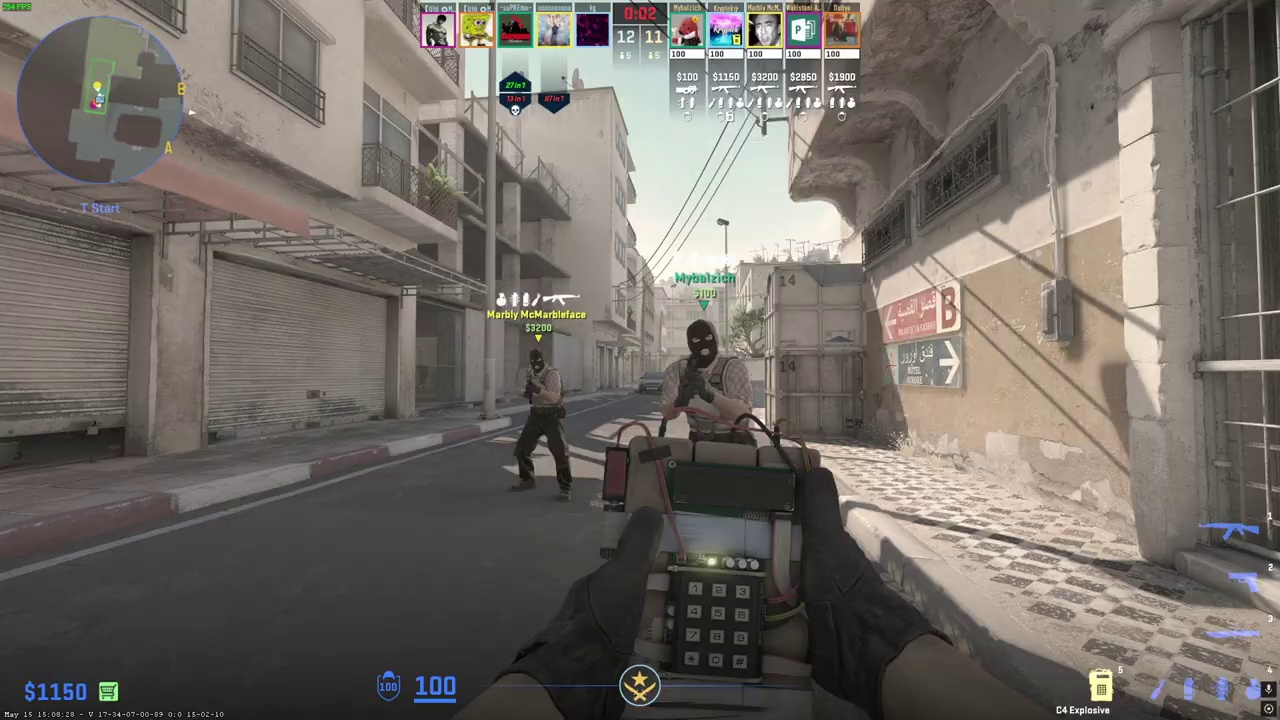Terrorist: (660, 319, 752, 444), (512, 348, 572, 499)
